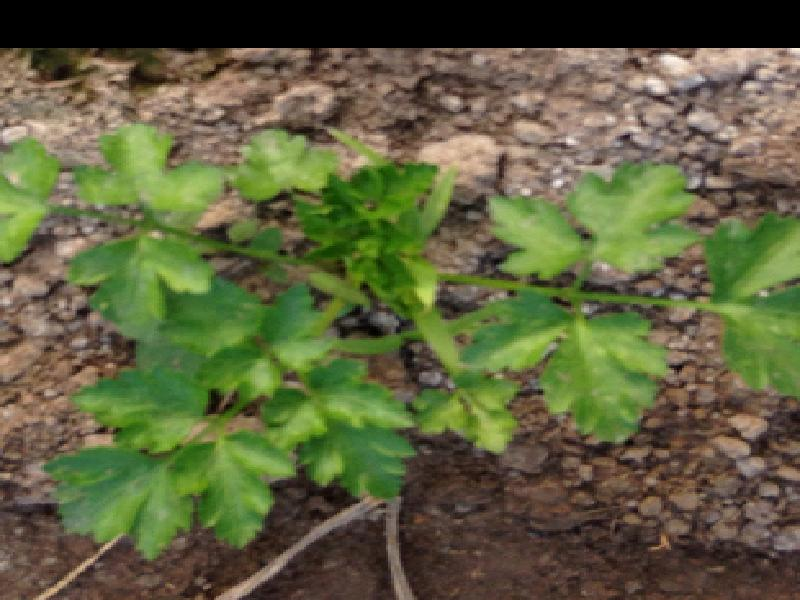radish: (103, 6, 727, 593)
